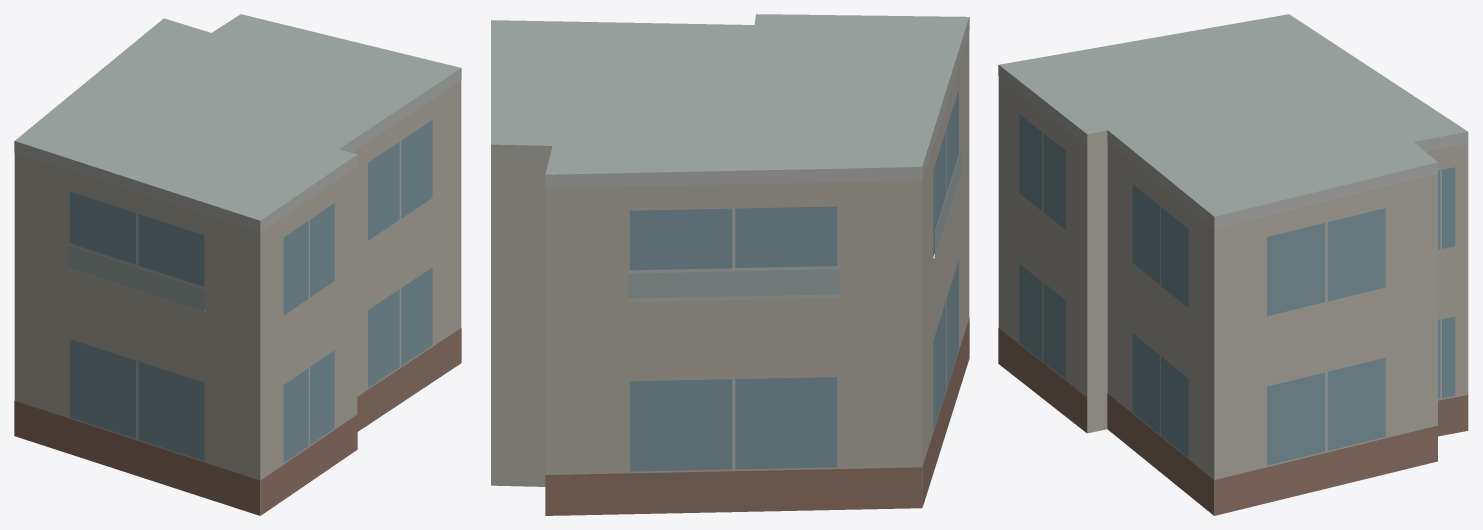
The model's file is survey-upis-32499623.glb.
3 views of the same model, side by side, from view 1: azimuth 30°, elevation 25°; view 2: azimuth 150°, elevation 25°; view 3: azimuth 270°, elevation 25° (orthographic). The views are drawn at different scales.
Visible parts, largest first — view 1: survey-upis-32499623.tmp; view 2: survey-upis-32499623.tmp; view 3: survey-upis-32499623.tmp.
Boxes of the visible parts, bbox=[...] form: survey-upis-32499623.tmp: bbox=[14, 14, 461, 515]; survey-upis-32499623.tmp: bbox=[491, 14, 969, 515]; survey-upis-32499623.tmp: bbox=[998, 14, 1468, 515].
Size of the model in its own units: 9.03 by 6.2 by 8.83.
